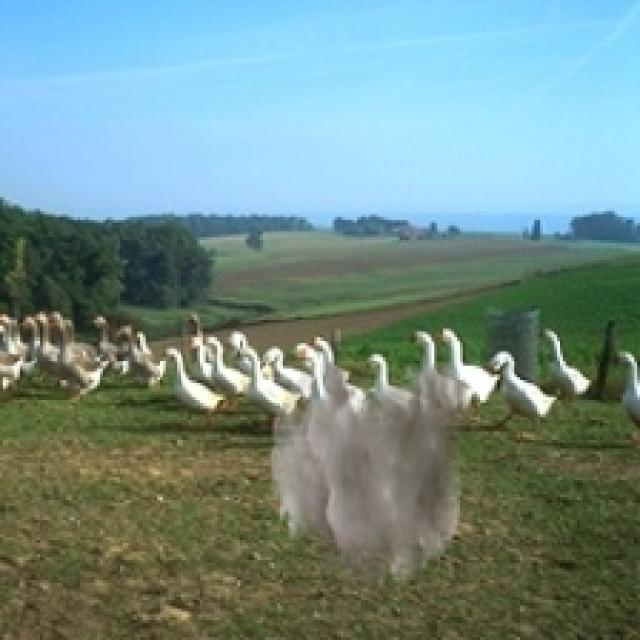smoke: (268, 352, 472, 612)
